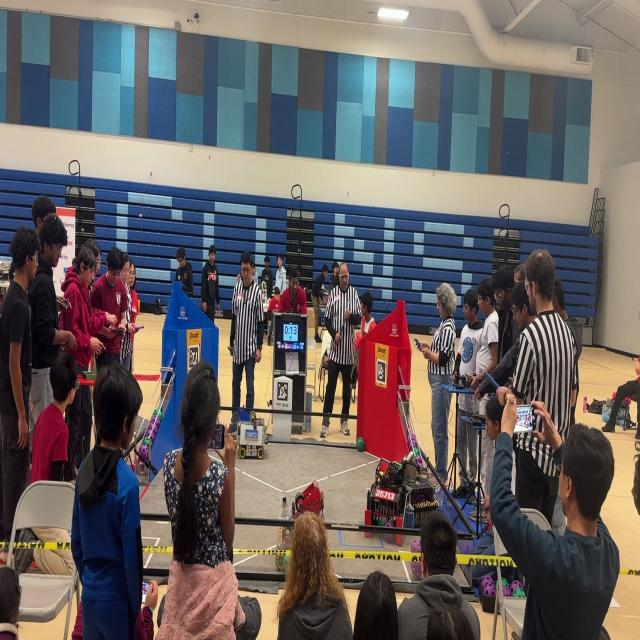artifact_green: (153, 409, 162, 421), (357, 437, 364, 452), (283, 555, 289, 572), (141, 437, 150, 446), (502, 578, 508, 586)
artifact_purple: (481, 576, 496, 597), (145, 416, 158, 436), (411, 560, 422, 579), (411, 561, 422, 580), (139, 445, 149, 461), (510, 581, 522, 594), (150, 424, 159, 441), (408, 433, 417, 449), (411, 540, 421, 553), (150, 416, 159, 429), (512, 588, 525, 597), (414, 456, 423, 469), (502, 586, 511, 598), (144, 422, 151, 437), (384, 533, 394, 543), (502, 578, 508, 586)
